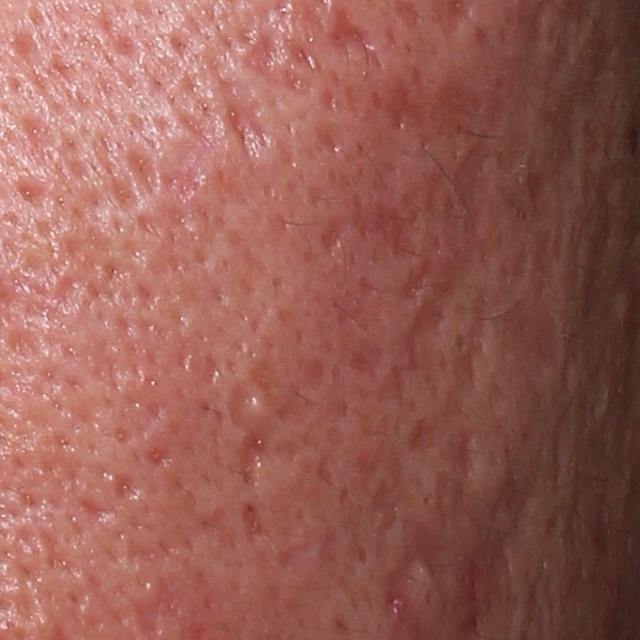atrophic_scar: (381, 469, 472, 620), (430, 127, 499, 299), (415, 292, 489, 444), (496, 226, 571, 368), (218, 69, 283, 164), (227, 383, 279, 494), (358, 194, 423, 267), (249, 364, 315, 432), (236, 22, 289, 90), (405, 298, 449, 375), (386, 76, 434, 136), (488, 454, 526, 527), (129, 147, 163, 201), (314, 214, 352, 260), (1, 24, 41, 67), (313, 118, 352, 161), (241, 499, 275, 546), (444, 429, 480, 473), (8, 325, 51, 361), (79, 493, 123, 525), (109, 171, 139, 215), (299, 354, 331, 394), (17, 177, 53, 207), (143, 441, 174, 472), (314, 451, 338, 486)
hypertrophic_scar: (240, 390, 274, 429)
